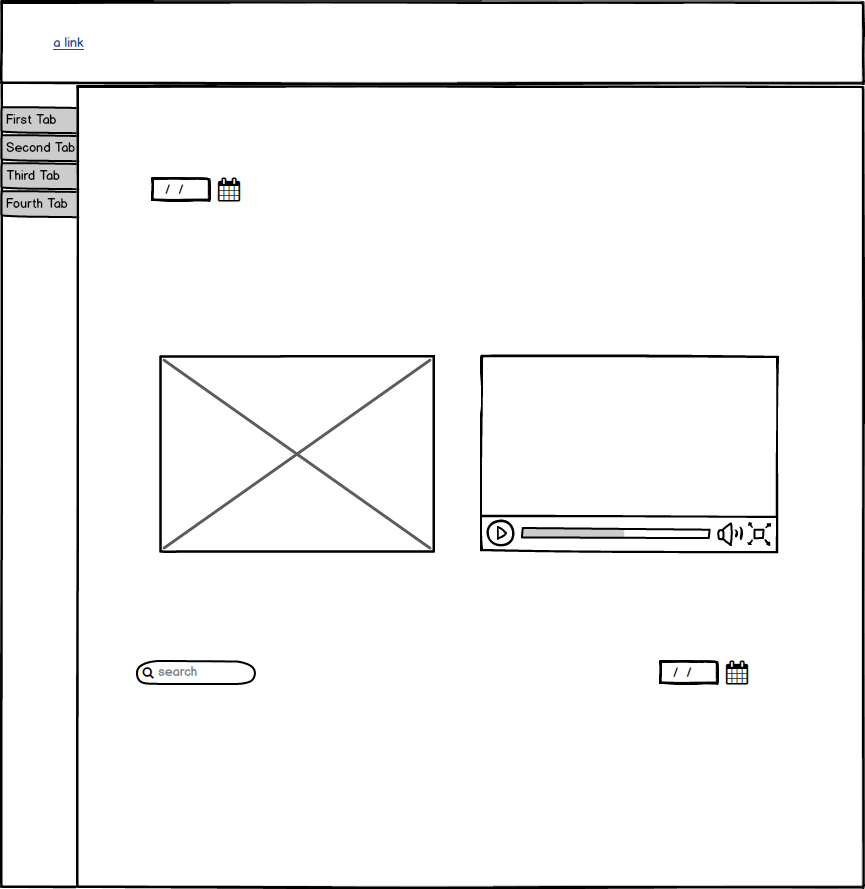date_picker: (644, 650, 760, 697), (143, 167, 253, 213)
image: (152, 344, 444, 559)
navlink: (43, 28, 97, 59)
search: (128, 651, 263, 694)
sidebar: (1, 100, 86, 224)
video: (471, 350, 786, 562)
